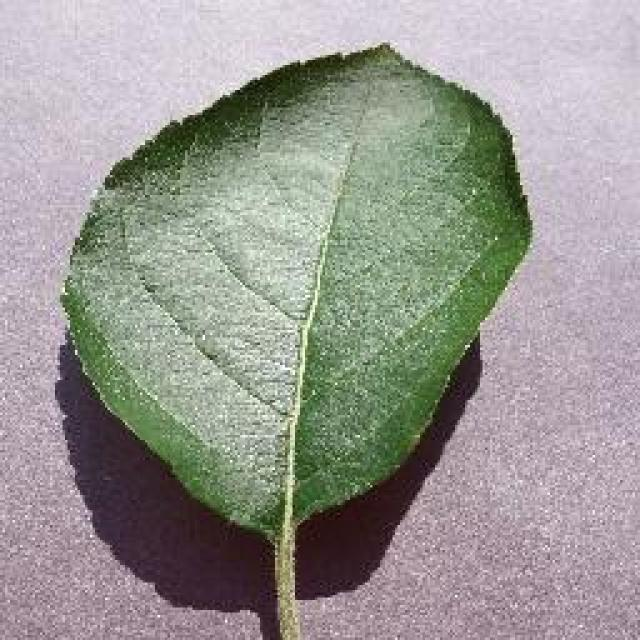apple healthy: (58, 38, 532, 638)
